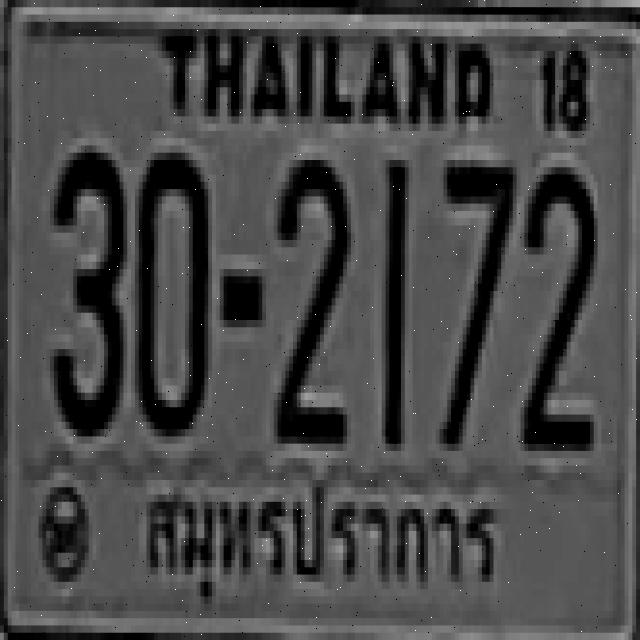0: (134, 146, 204, 430)
1: (382, 156, 405, 440)
2: (274, 152, 348, 436), (520, 160, 594, 444)
3: (50, 146, 124, 430)
7: (439, 152, 513, 444)
SamutPrakan: (134, 458, 504, 614)
